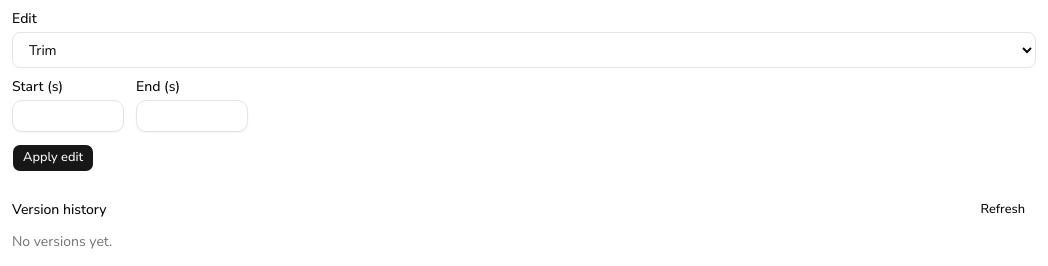
Scenario: VideoEditor › blocks an invalid trim range client-side without submitting
Type "9" into the number field labelled "Start (s)" at (68, 116), box [12,100,124,132]
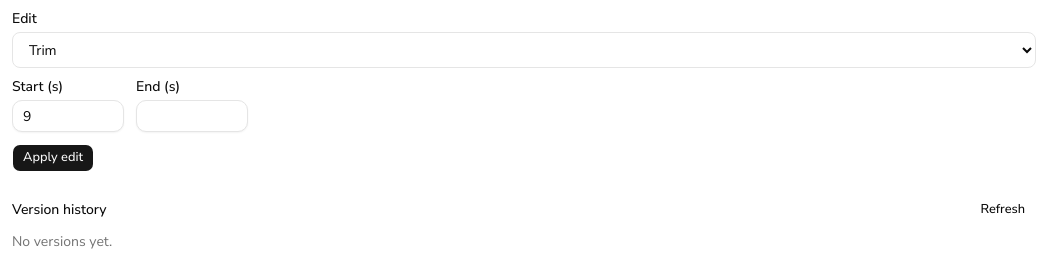
Type "3" into the number field labelled "End (s)" at (192, 116), box [136,100,248,132]
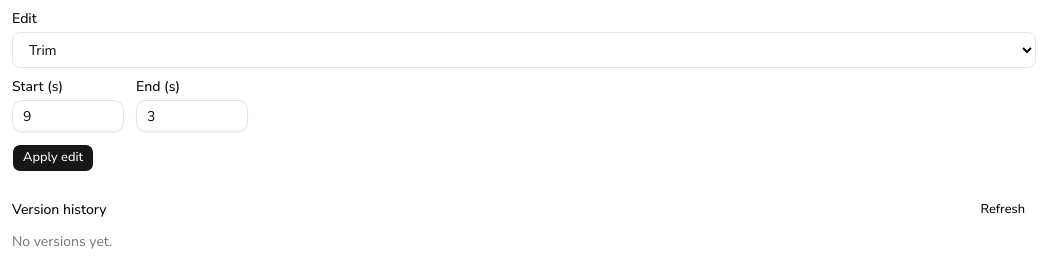
Click the button "Apply edit" at (53, 158), box [12,144,94,172]
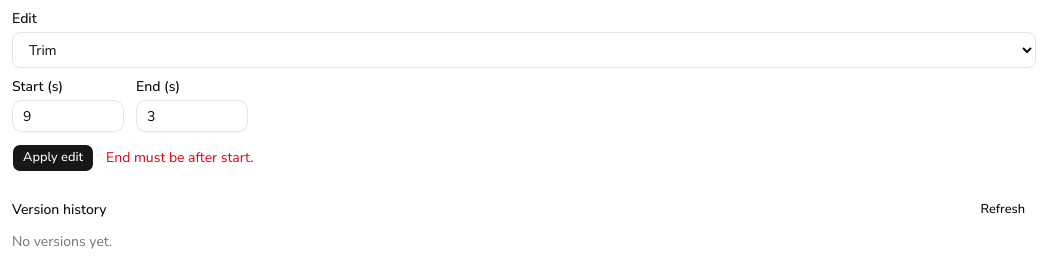
Result: the message shows "after start" at [106,148,253,167]
